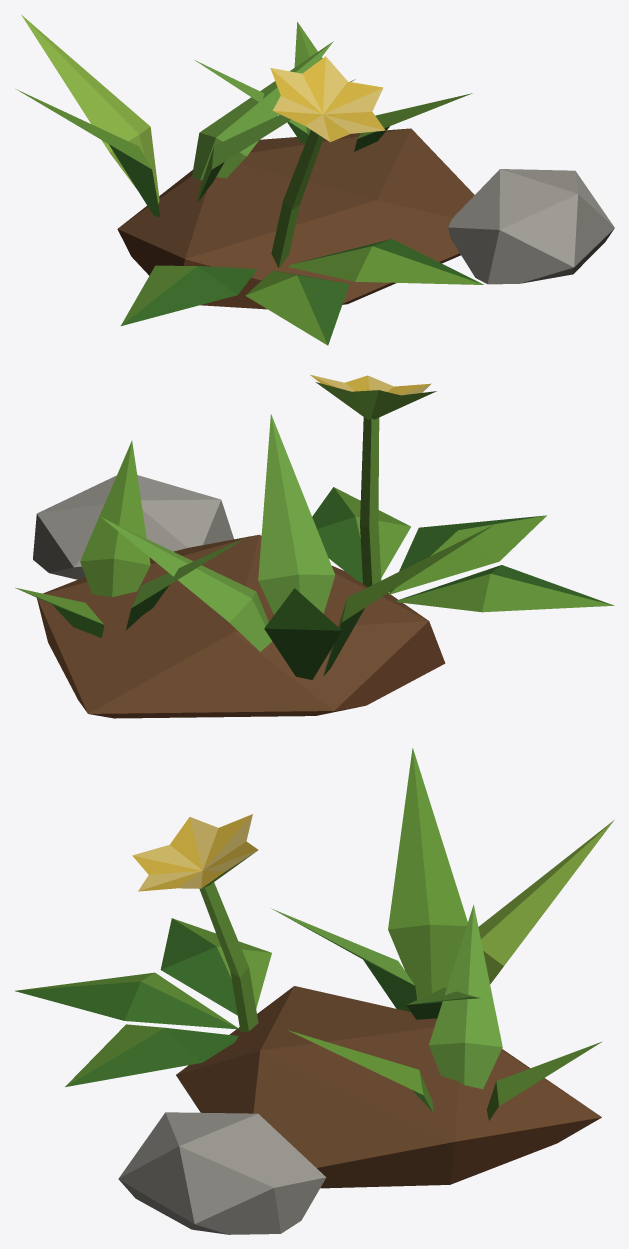
Rendered from plot_weeds.glb.
3 views of the same model, one above another, from view 1: azimuth 30°, elevation 25°; view 2: azimuth 150°, elevation 25°; view 3: azimuth 270°, elevation 25° (orthographic). The views are drawn at different scales.
Visible parts, largest first — view 1: plot_weeds; view 2: plot_weeds; view 3: plot_weeds.
Boxes of the visible parts, left/top/right/bottom form: plot_weeds: left=16, top=14, right=614, bottom=345; plot_weeds: left=15, top=374, right=614, bottom=718; plot_weeds: left=15, top=748, right=614, bottom=1234.
Size of the model in its own units: 0.3454 by 0.1493 by 0.3242.
